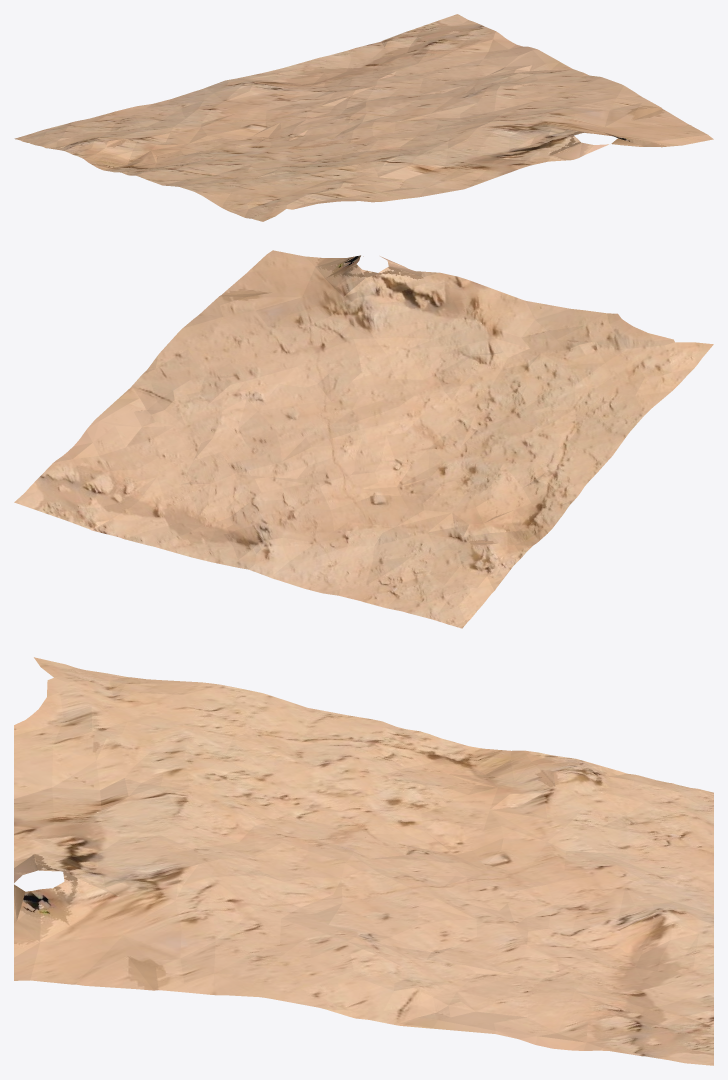
The picture shows the model from 3 angles, top to bottom: view 1: azimuth 30°, elevation 25°; view 2: azimuth 150°, elevation 25°; view 3: azimuth 270°, elevation 25°; orthographic projection. The views are drawn at different scales.
Bounding box in the file's own units: 1.04 × 0.2232 × 1.04.
2 materials, 2 textured.
